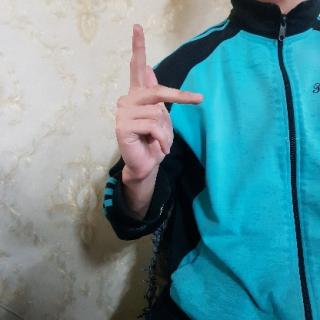DHAA: (111, 20, 207, 182)
